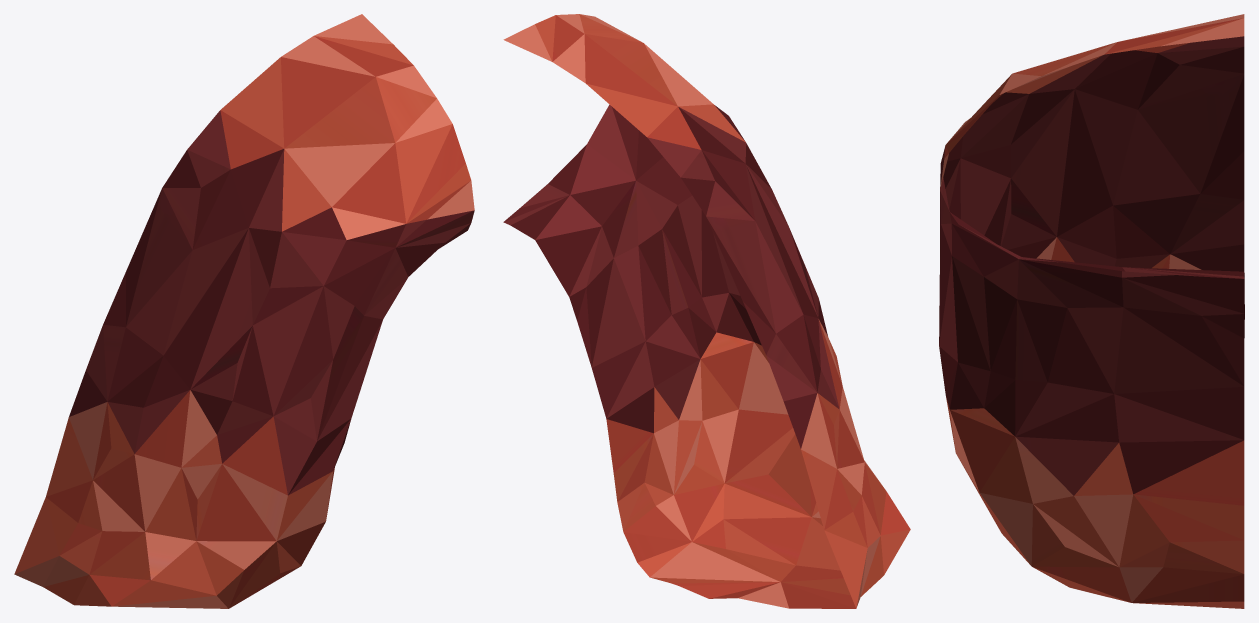
The picture shows the model from 3 angles, left to right: view 1: azimuth 30°, elevation 25°; view 2: azimuth 150°, elevation 25°; view 3: azimuth 270°, elevation 25°; orthographic projection. The views are drawn at different scales.
Visible parts, largest first — view 1: polySurface12; view 2: polySurface12; view 3: polySurface12.
Boxes of the visible parts, x1,y1,x2,y2 form: polySurface12: [14, 14, 474, 608]; polySurface12: [503, 14, 910, 608]; polySurface12: [939, 14, 1244, 608].
Bounding box in the file's own units: 616 × 849 × 347.
